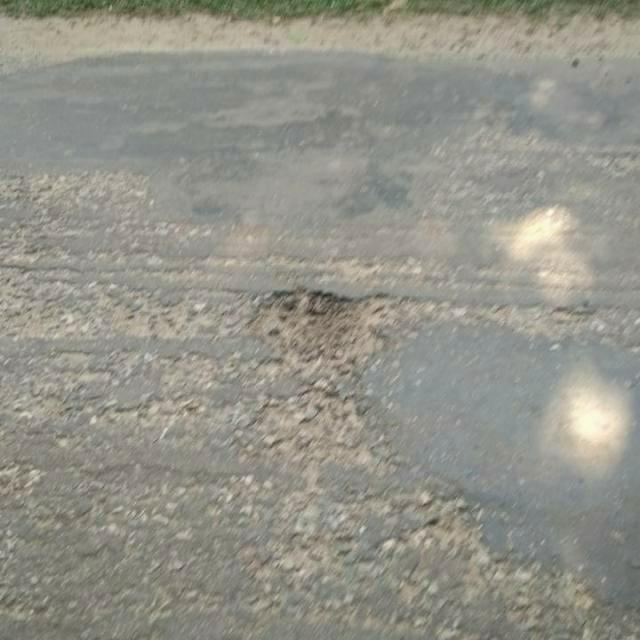Pothole: (249, 282, 396, 378)
